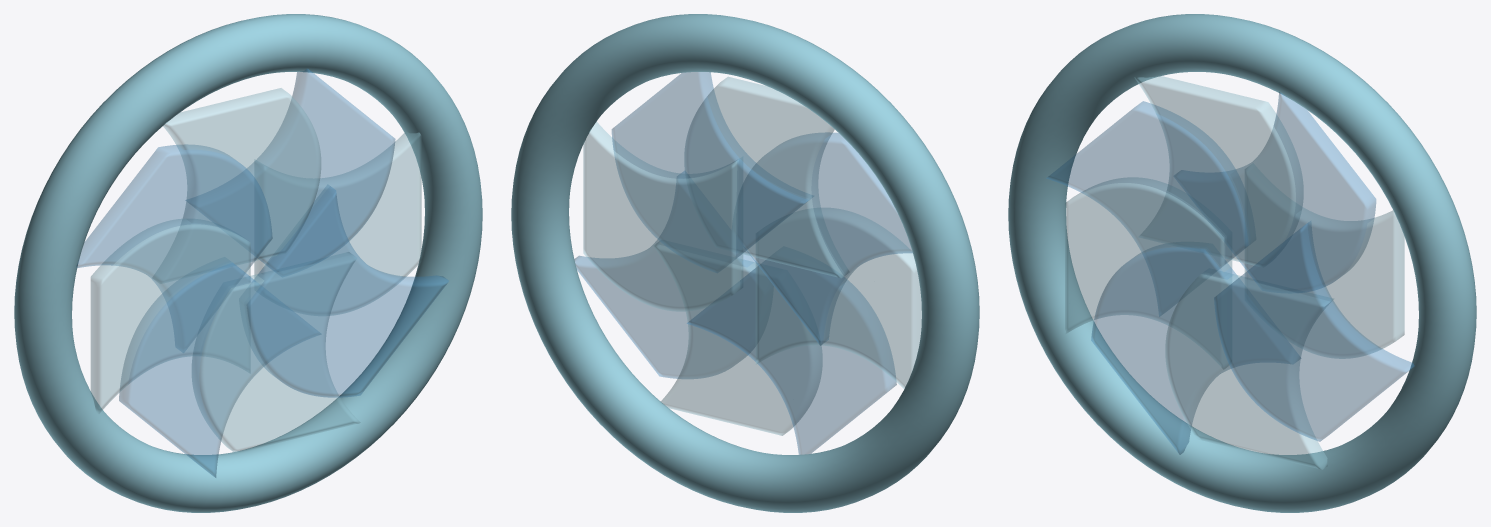
3 renders of one model, left to right at view 1: azimuth 30°, elevation 25°; view 2: azimuth 150°, elevation 25°; view 3: azimuth 330°, elevation 25°, orthographic.
Visible parts, largest first — view 1: iris-ring, iris-leaf-7, iris-leaf-6, iris-leaf-4, iris-leaf-5, iris-leaf-3, iris-leaf-2, iris-leaf-1, iris-leaf-0; view 2: iris-ring, iris-leaf-1, iris-leaf-0, iris-leaf-4, iris-leaf-2, iris-leaf-3, iris-leaf-5, iris-leaf-6, iris-leaf-7; view 3: iris-ring, iris-leaf-6, iris-leaf-7, iris-leaf-2, iris-leaf-3, iris-leaf-4, iris-leaf-5, iris-leaf-1, iris-leaf-0.
Boxes of the visible parts, x1,y1,x2,y2 form: iris-ring: [14, 14, 482, 512]; iris-leaf-7: [245, 186, 448, 397]; iris-leaf-6: [192, 255, 360, 453]; iris-leaf-4: [91, 219, 250, 413]; iris-leaf-5: [119, 262, 264, 477]; iris-leaf-3: [76, 144, 272, 296]; iris-leaf-2: [163, 88, 320, 261]; iris-leaf-1: [185, 69, 395, 272]; iris-leaf-0: [254, 132, 421, 315]; iris-ring: [511, 14, 979, 512]; iris-leaf-1: [612, 72, 809, 272]; iris-leaf-0: [583, 122, 742, 311]; iris-leaf-4: [756, 208, 921, 388]; iris-leaf-2: [684, 77, 845, 277]; iris-leaf-3: [747, 132, 912, 345]; iris-leaf-5: [687, 266, 896, 454]; iris-leaf-6: [654, 244, 822, 435]; iris-leaf-7: [574, 171, 755, 378]; iris-ring: [1008, 14, 1476, 512]; iris-leaf-6: [1165, 273, 1333, 469]; iris-leaf-7: [1214, 222, 1414, 441]; iris-leaf-2: [1134, 76, 1303, 267]; iris-leaf-3: [1046, 101, 1249, 266]; iris-leaf-4: [1065, 177, 1231, 334]; iris-leaf-5: [1091, 246, 1238, 454]; iris-leaf-1: [1230, 92, 1375, 292]; iris-leaf-0: [1245, 207, 1404, 358].
Bounding box in the file's own units: 2.2 × 2.2 × 0.263.
